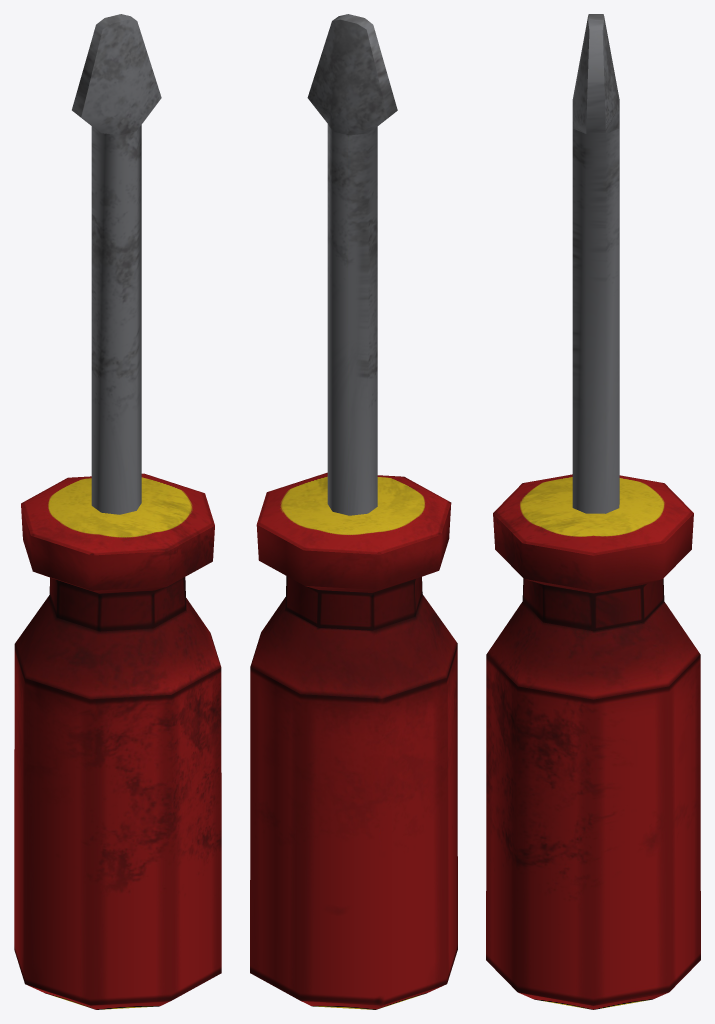
The model's file is Screwdriver.FBX.
3 views of the same model, side by side, from view 1: azimuth 30°, elevation 25°; view 2: azimuth 150°, elevation 25°; view 3: azimuth 270°, elevation 25° (orthographic).
Parts seen in each view (by area): view 1: screwdriver; view 2: screwdriver; view 3: screwdriver.
Boxes of the visible parts, x1,y1,x2,y2 form: screwdriver: [14, 14, 221, 1009]; screwdriver: [250, 14, 457, 1009]; screwdriver: [486, 14, 700, 1009].
Bounding box in the file's own units: 0.6649 × 0.6649 × 3.29.
Materials: 1 (1 with a texture image).
